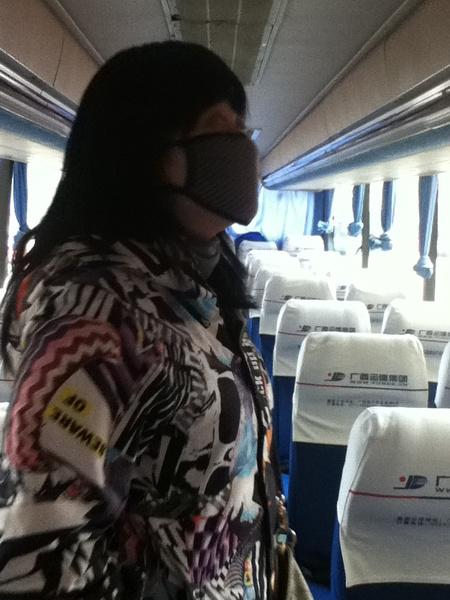OK: (154, 94, 265, 227)
